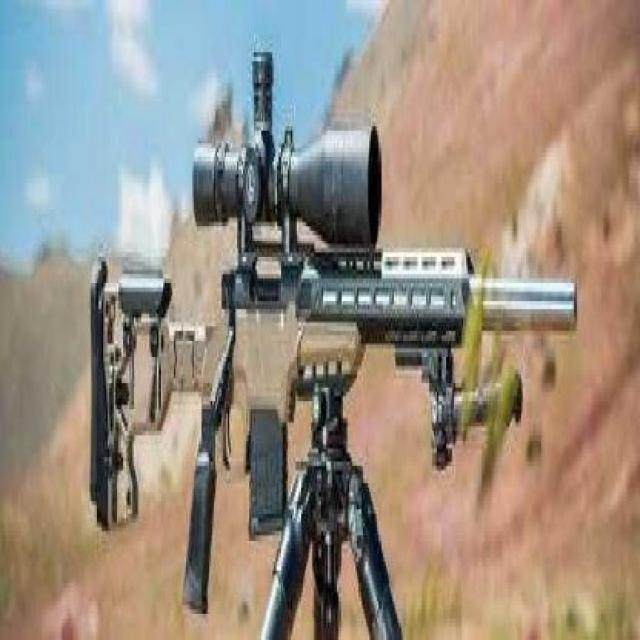weapon: (95, 62, 575, 640)
